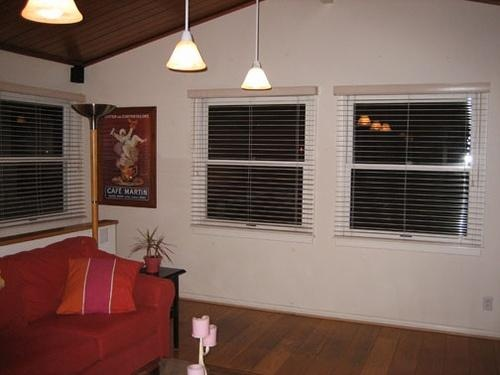pottedplant: (134, 230, 171, 274)
sofa: (1, 233, 174, 375)
